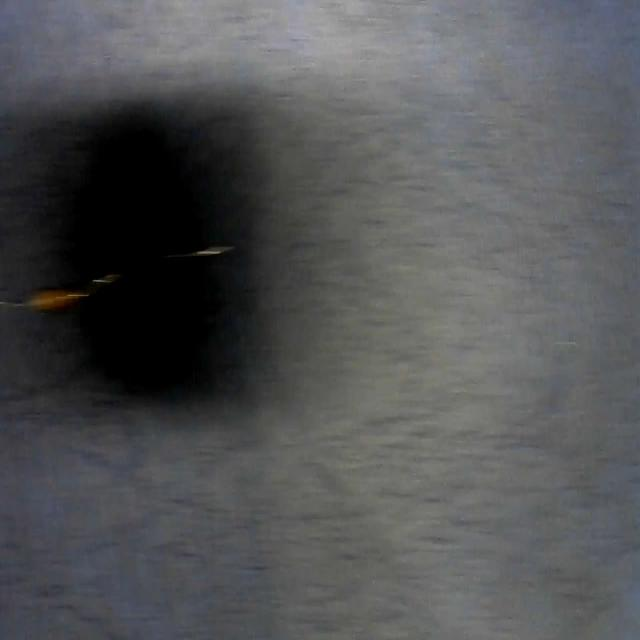resistor: (0, 243, 232, 315)
